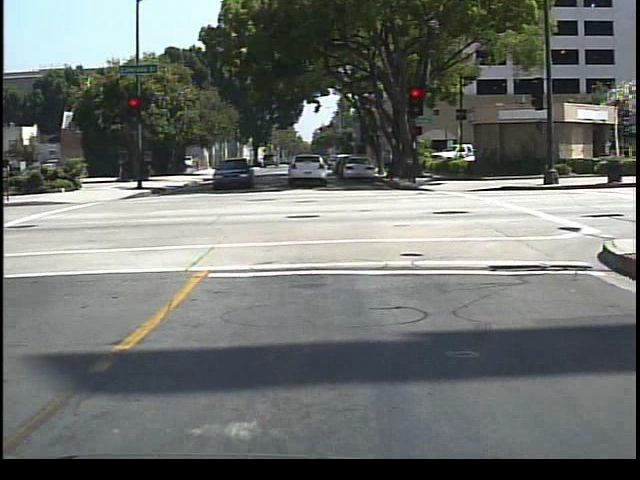person: (381, 143, 401, 185)
